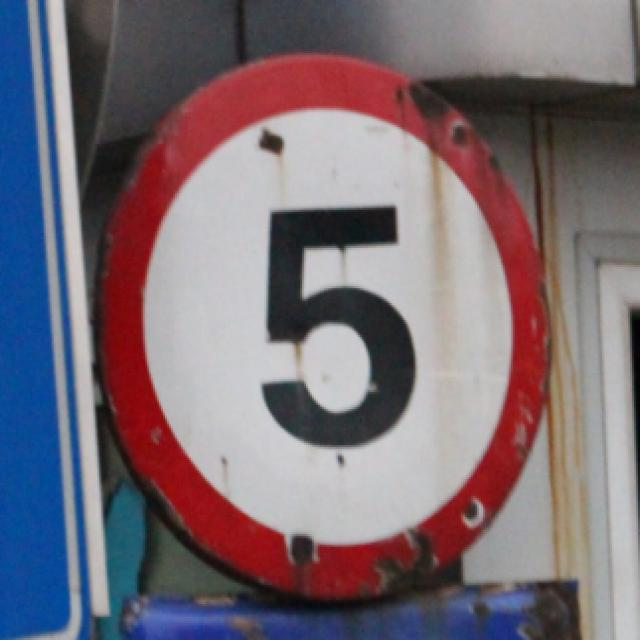Speed: (93, 48, 602, 609)
